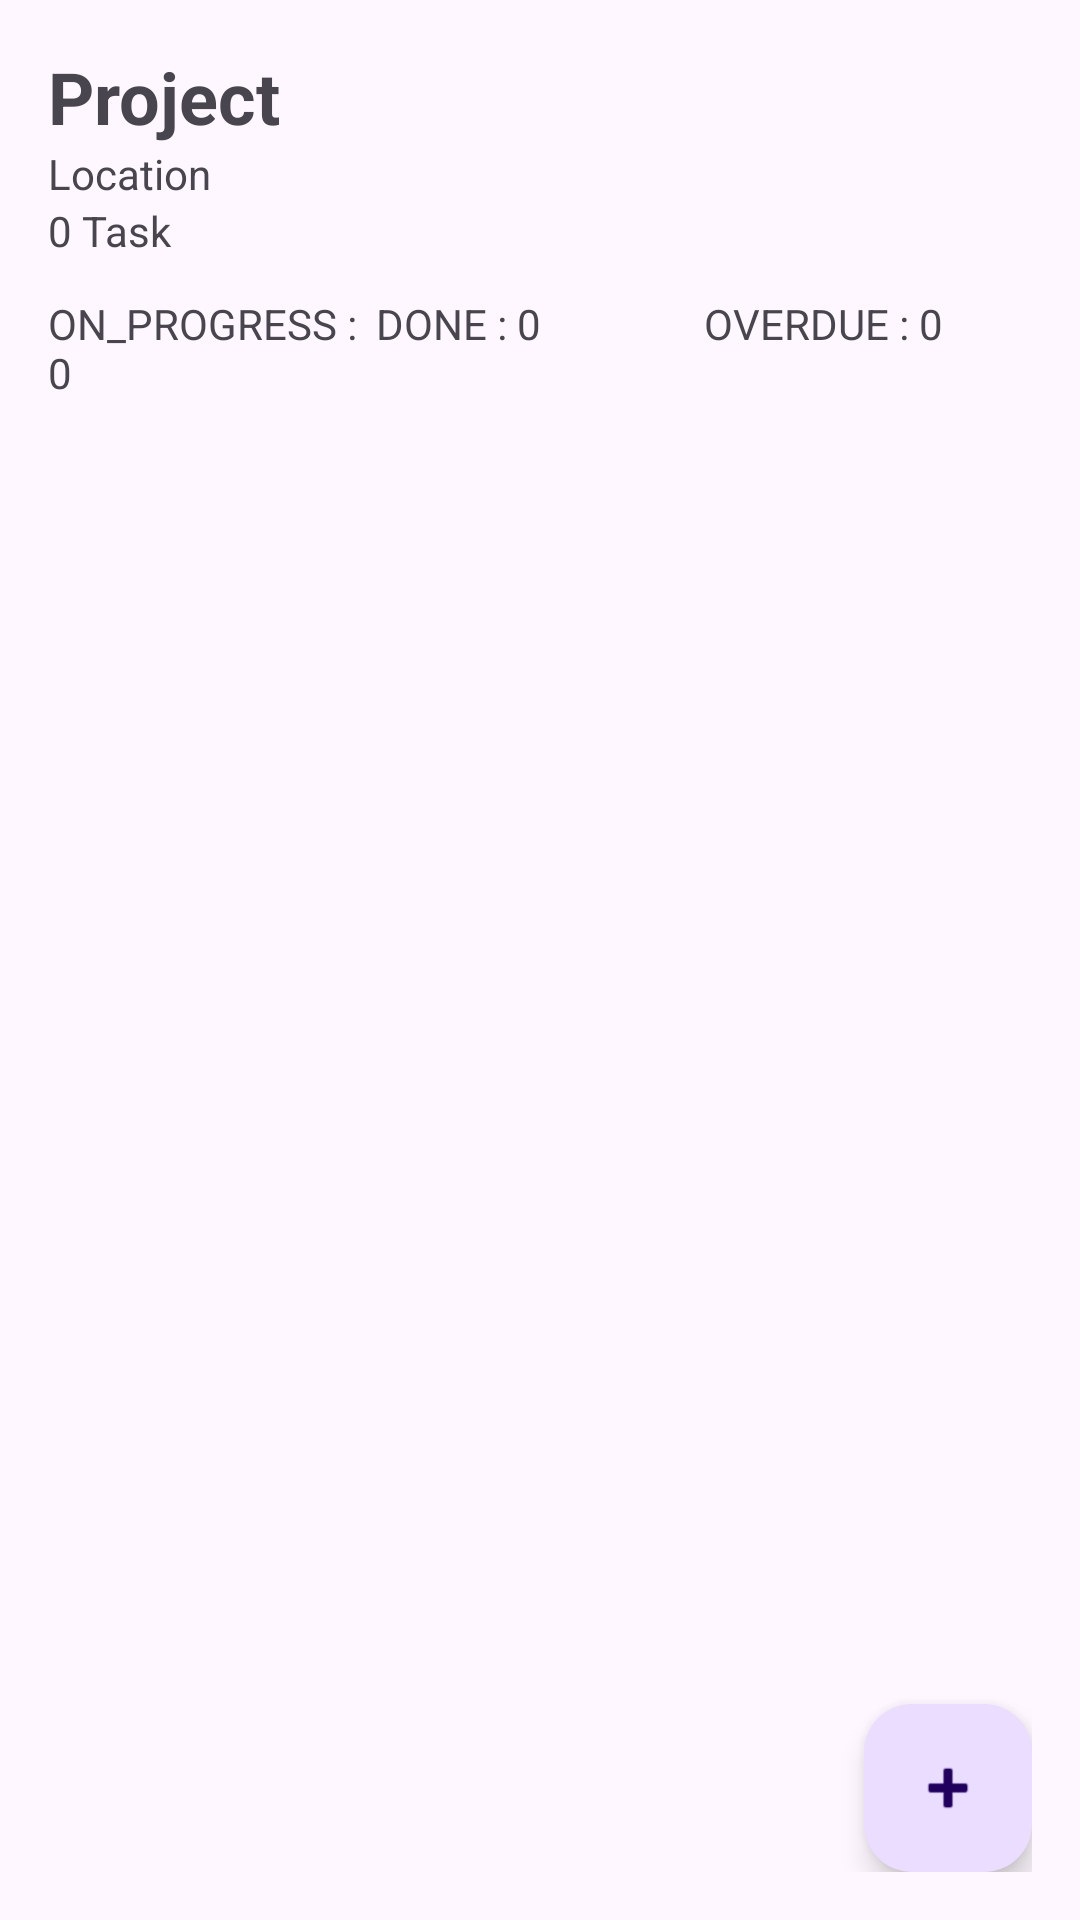

Point at icon controls on the screen. Image size 1080px x 1920px, points as [x,y].
Tambah Task: [948,1788]
